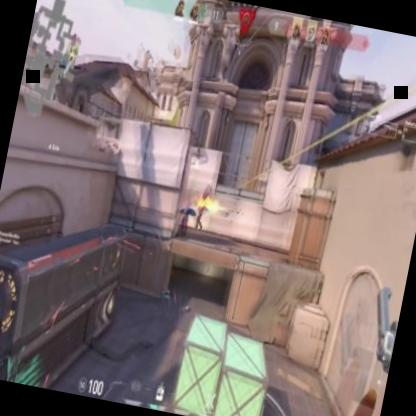enemy: (178, 201, 191, 236), (192, 198, 206, 230)
enemy_head: (184, 202, 188, 209)
